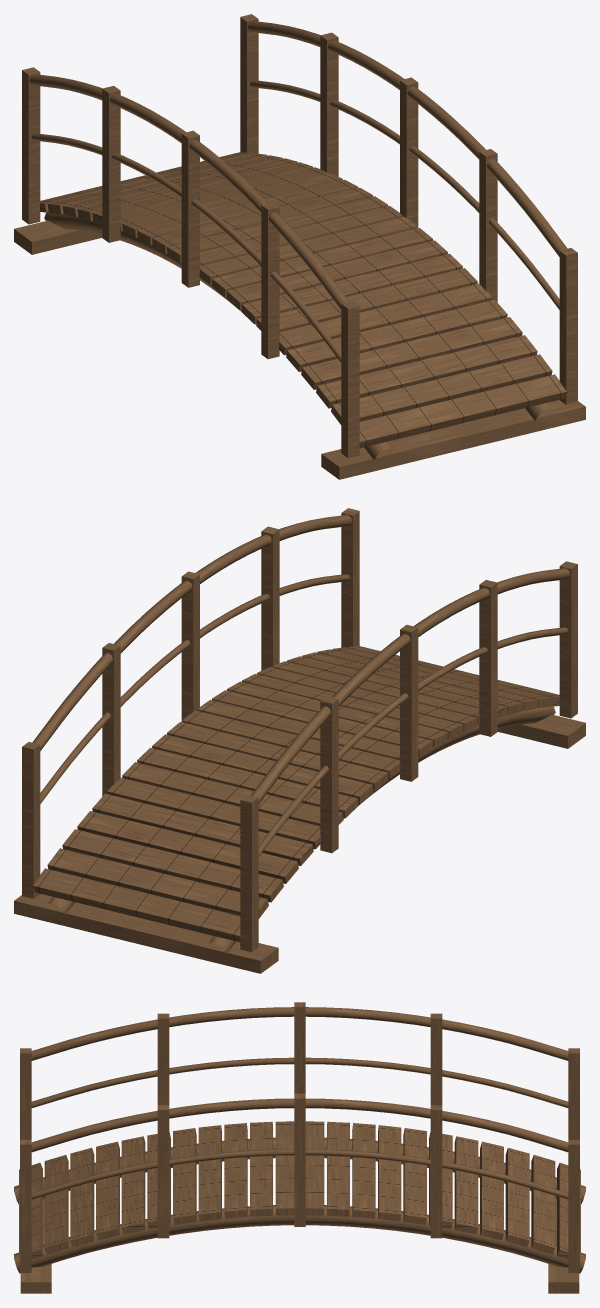
The model's file is bridge.glb.
The picture shows the model from 3 angles, top to bottom: view 1: azimuth 30°, elevation 25°; view 2: azimuth 150°, elevation 25°; view 3: azimuth 270°, elevation 25°; orthographic projection. The views are drawn at different scales.
Visible parts, largest first — view 1: Bridge_oakPlanks, Bridge_oak; view 2: Bridge_oakPlanks, Bridge_oak; view 3: Bridge_oakPlanks, Bridge_oak.
Boxes of the visible parts, x1=… form: Bridge_oakPlanks: x1=40, y1=152, x2=567, y2=448; Bridge_oak: x1=14, y1=14, x2=585, y2=479; Bridge_oakPlanks: x1=32, y1=646, x2=559, y2=942; Bridge_oak: x1=14, y1=508, x2=585, y2=973; Bridge_oakPlanks: x1=19, y1=1121, x2=580, y2=1259; Bridge_oak: x1=14, y1=1002, x2=585, y2=1293.
Bounding box in the file's own units: 1.9 × 1.64 × 4.44.
2 materials, 2 textured.
